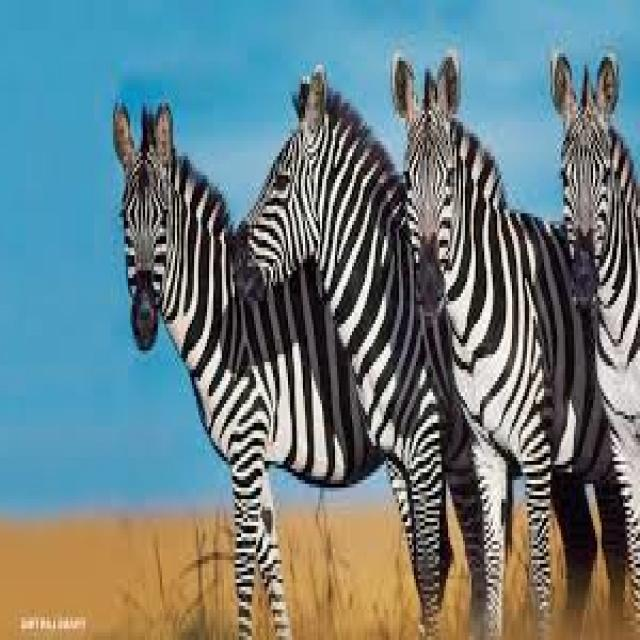zebra: (241, 65, 484, 636), (117, 107, 378, 636), (395, 57, 623, 632), (553, 53, 640, 606)
